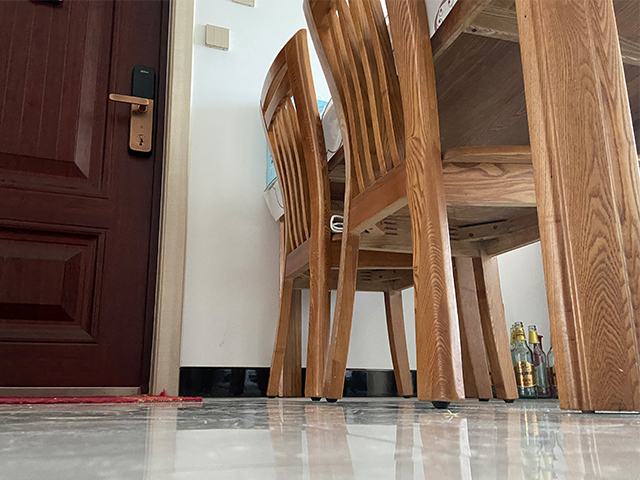carpet: (1, 392, 204, 406)
stool: (300, 1, 538, 410), (258, 27, 493, 404)
table: (262, 1, 640, 412)
